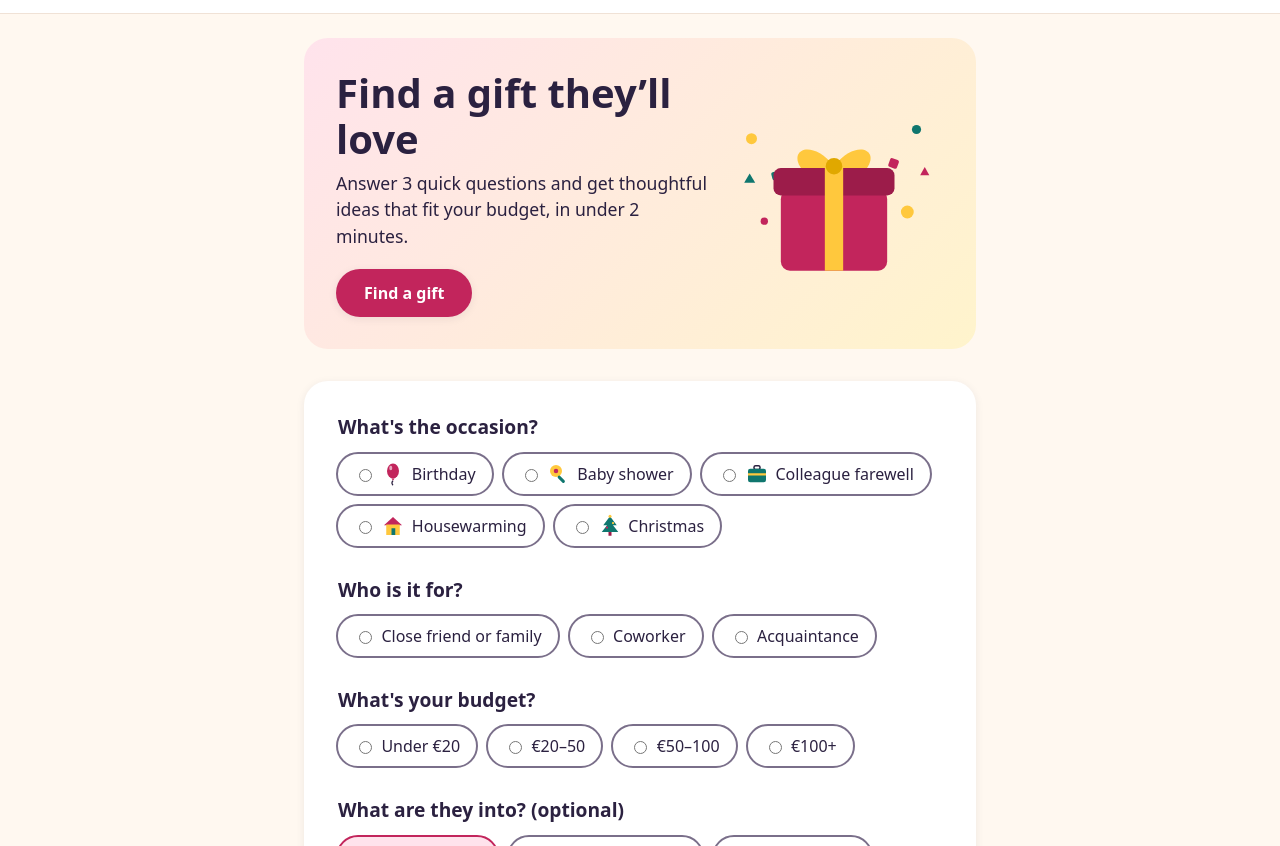
it: App › goes back to the form with the answers kept
The image size is (1280, 846).
Click the radio button labelled "Birthday": coordinates (366, 475) [359,469,372,482]
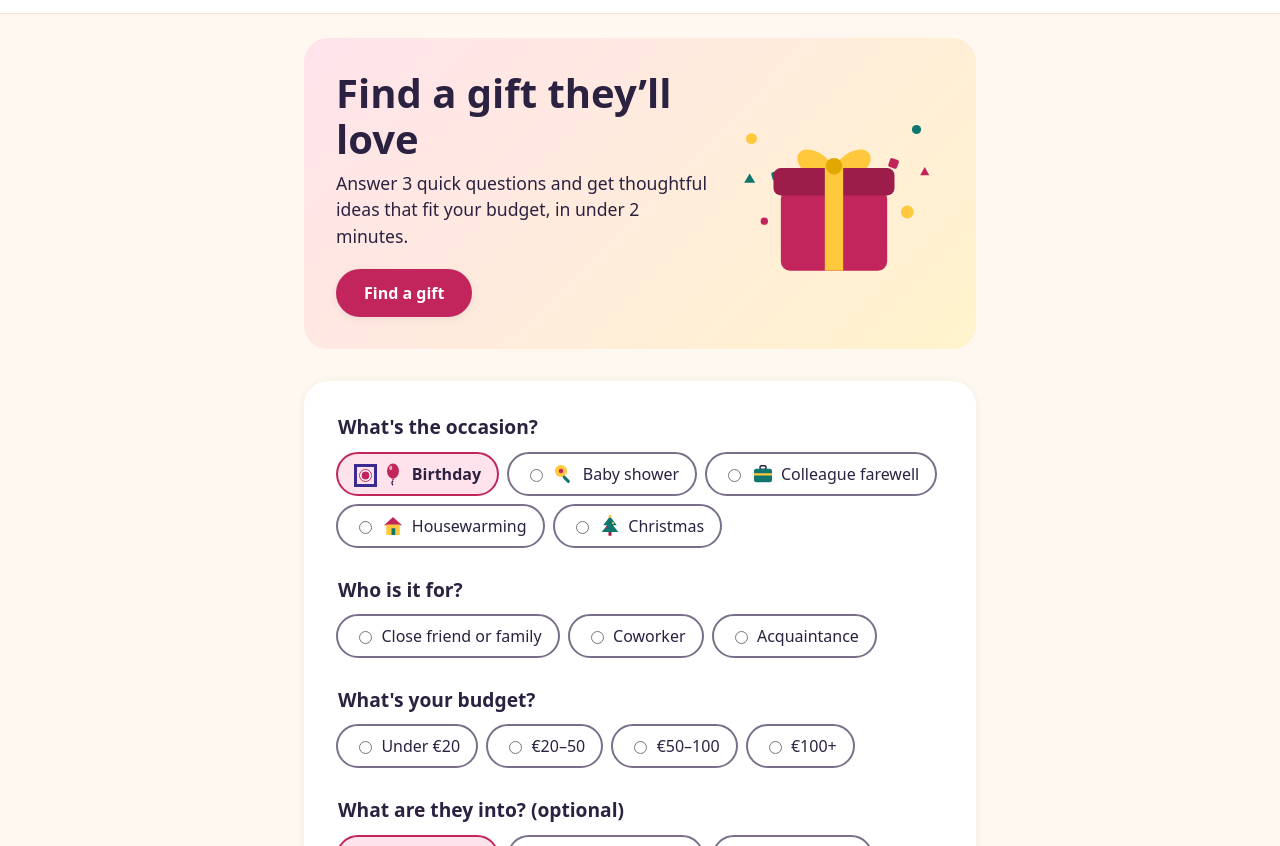
Click the radio button labelled "Coworker": coordinates (597, 638) [591,631,604,644]
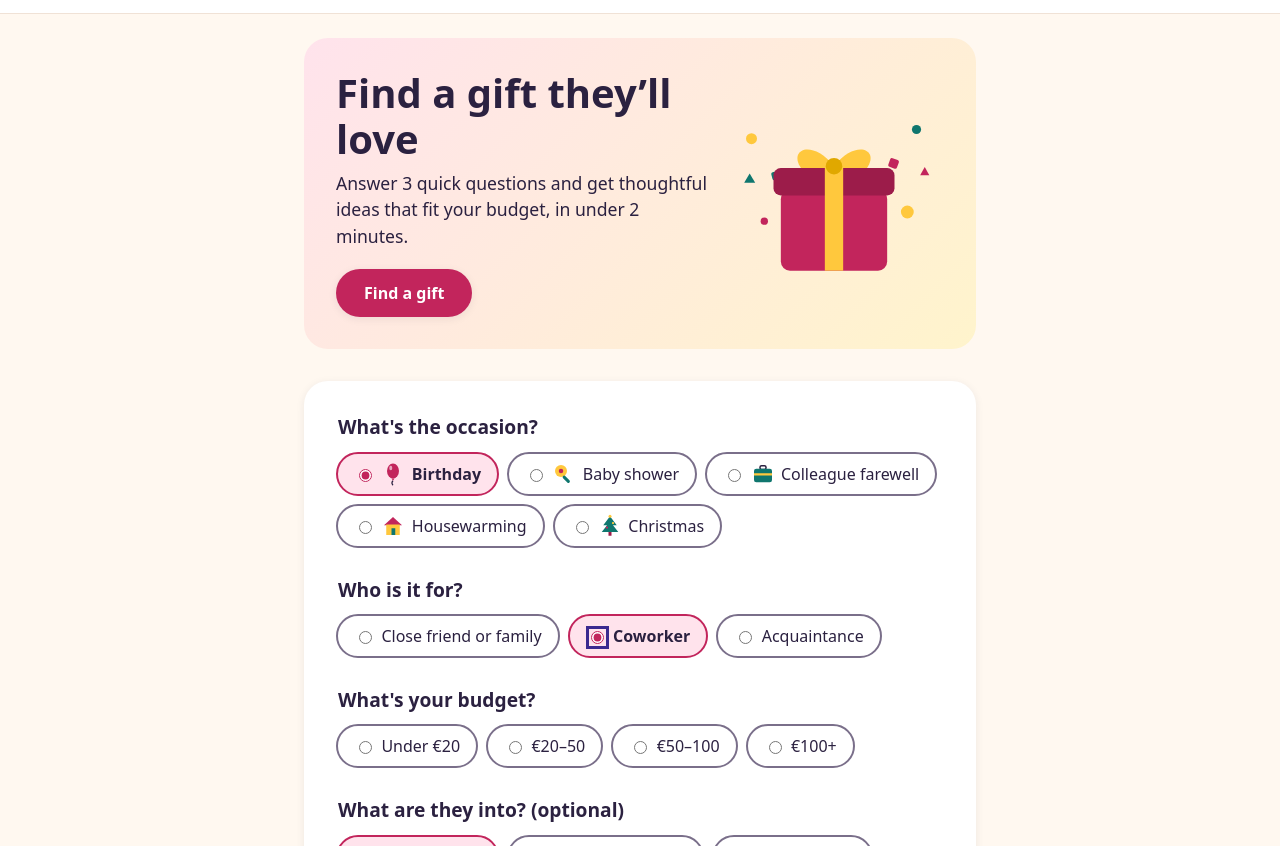
Click the radio button labelled "€20–50": coordinates (516, 748) [509,741,522,754]
(page scrolled)
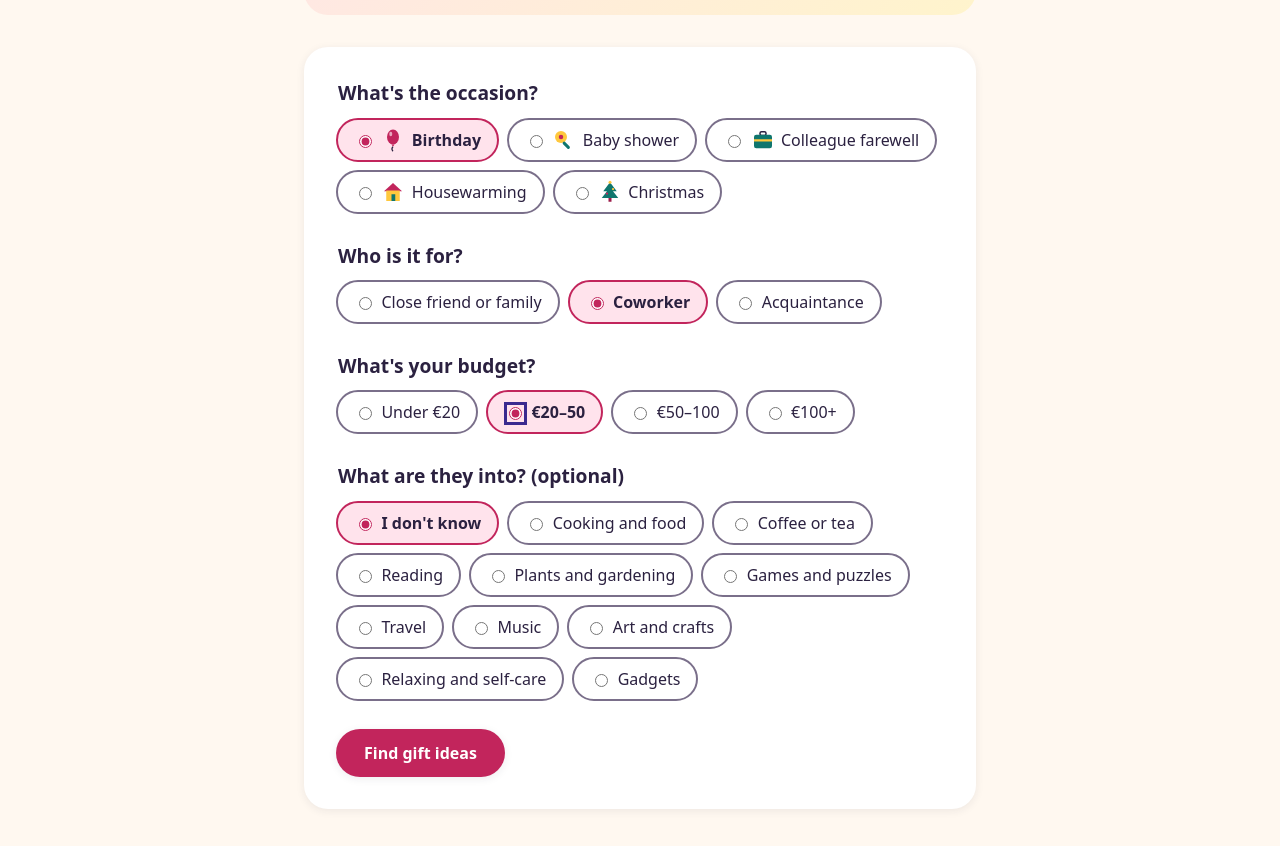
Click the button "Find gift ideas": coordinates (420, 753) [336,729,505,777]
(page scrolled)
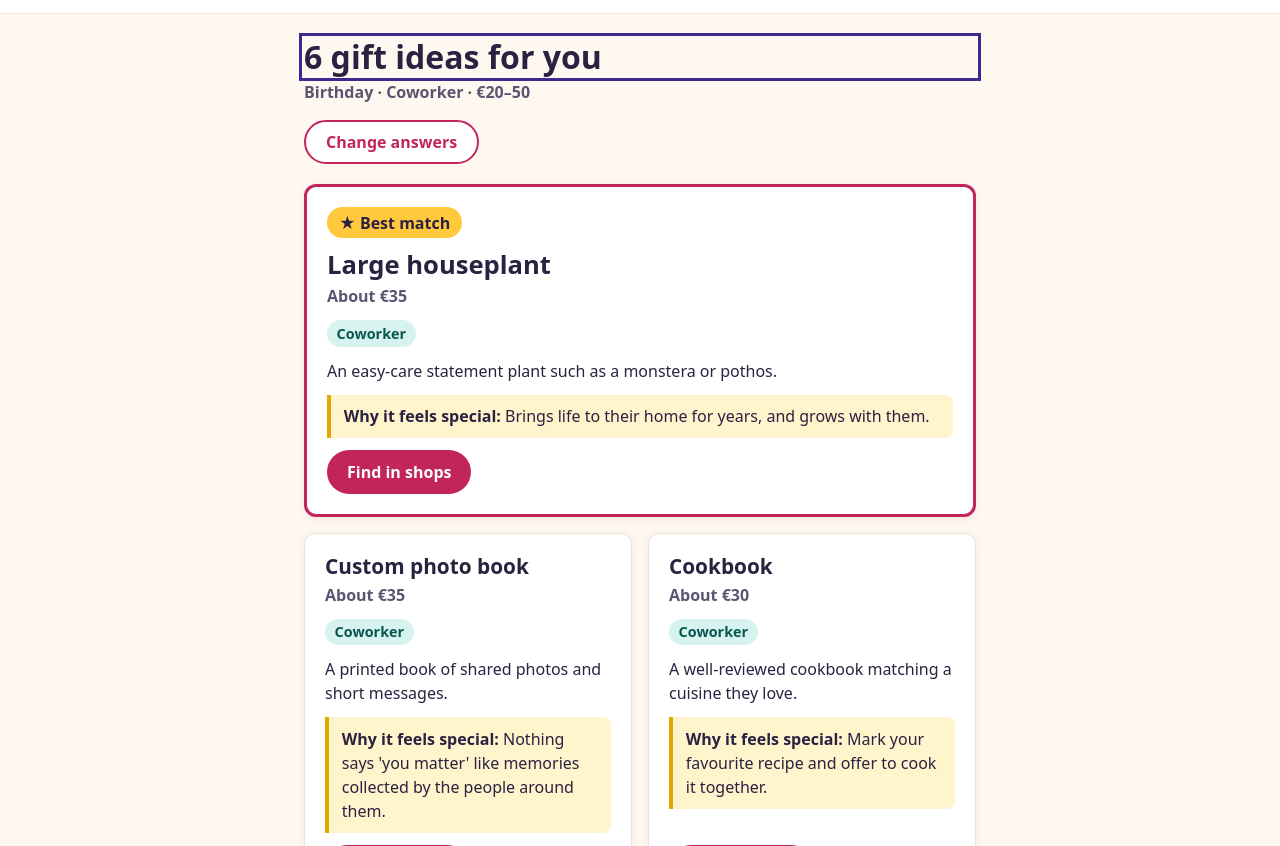
Click the button "Change answers": coordinates (392, 142) [304,120,479,164]
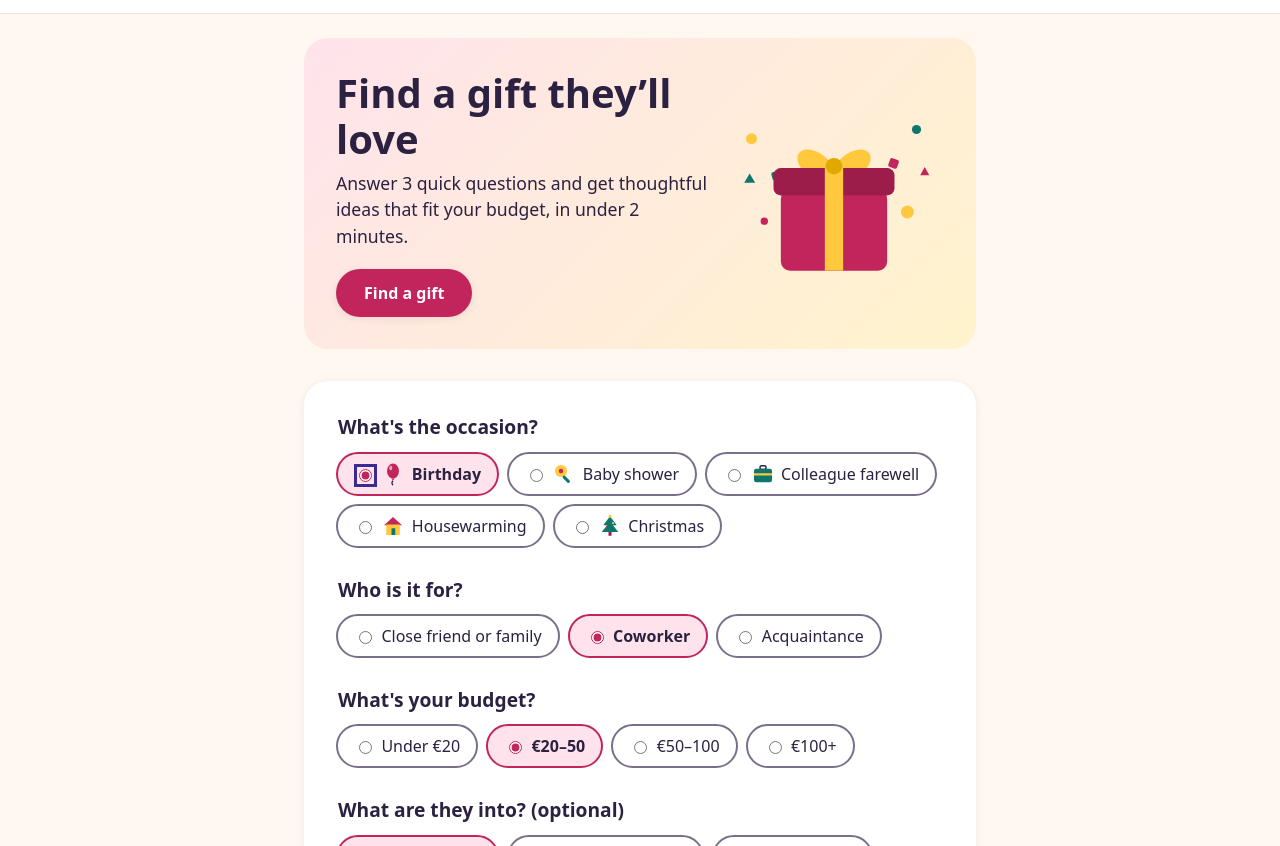
Result: the radio button labelled "Birthday" is checked at [359,469,372,482]
Result: the radio button labelled "Coworker" is checked at [591,631,604,644]
Result: the radio button labelled "€20–50" is checked at [509,741,522,754]
